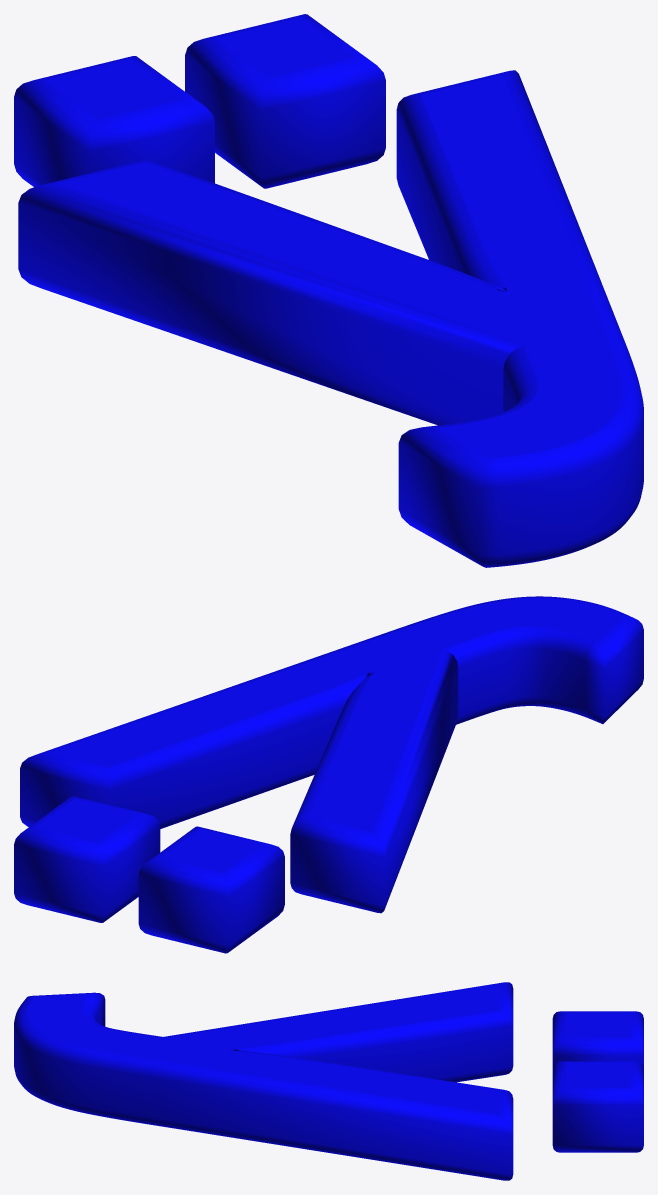
3 views of the same model, one above another, from view 1: azimuth 30°, elevation 25°; view 2: azimuth 150°, elevation 25°; view 3: azimuth 270°, elevation 25° (orthographic). The views are drawn at different scales.
Parts seen in each view (by area): view 1: 255; view 2: 255; view 3: 255.
Part boxes in pixels (x1,y1,x2,y2): 255: [14, 14, 643, 567]; 255: [14, 596, 643, 953]; 255: [14, 982, 643, 1180].
Bounding box in the file's own units: 0.7844 × 0.16 × 1.43.
